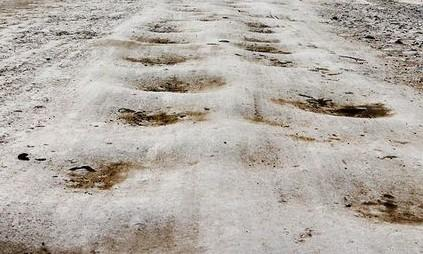pothole: (50, 146, 157, 197), (337, 167, 423, 230), (281, 89, 390, 125), (107, 98, 205, 137), (124, 67, 222, 96), (117, 43, 211, 71), (239, 54, 309, 74), (132, 33, 198, 49), (231, 40, 291, 57), (236, 18, 286, 35), (140, 24, 203, 35), (241, 33, 283, 44)
